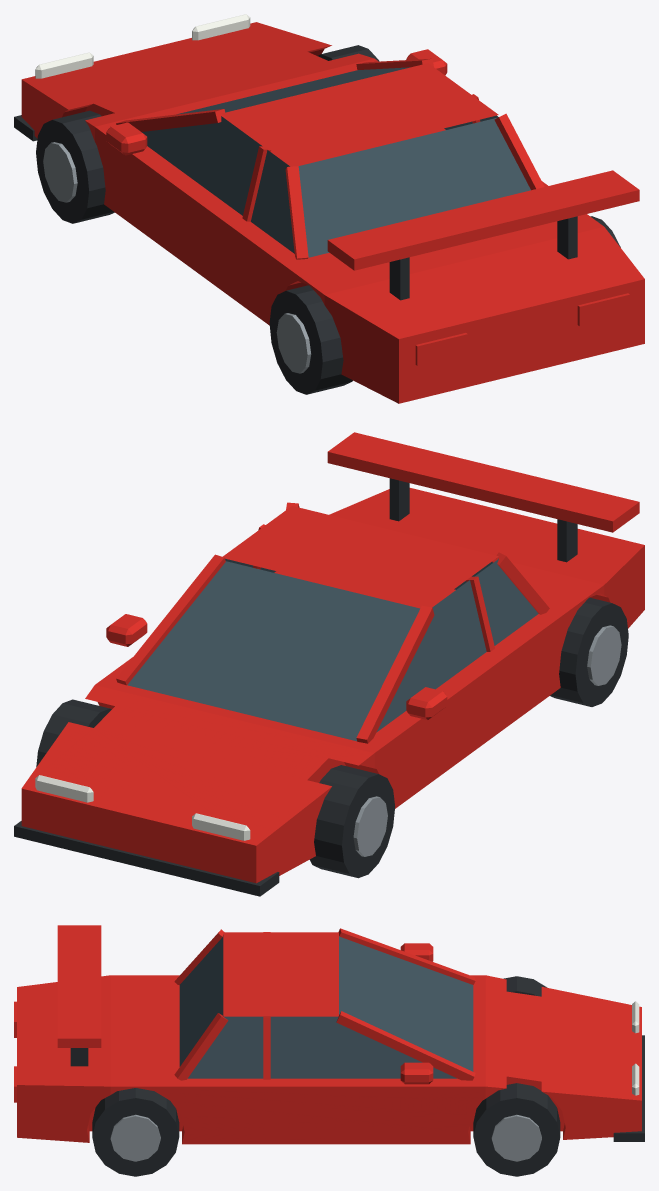
Rendered from car_speed.glb.
3 views of the same model, one above another, from view 1: azimuth 30°, elevation 25°; view 2: azimuth 150°, elevation 25°; view 3: azimuth 270°, elevation 25° (orthographic). The views are drawn at different scales.
Visible parts, largest first — view 1: Body, CabinGlass, Roof, RearWing, Wheel_Rear_L, Wheel_Front_L, Hub_Front_L, Hub_Rear_L, CabinPillar, CabinPillar.003, TailLight.001, TailLight (+8 smaller); view 2: Body, CabinGlass, Roof, RearWing, Wheel_Front_L, Wheel_Rear_L, FrontSplitter, CabinPillar.003, CabinPillar.002, Wheel_Front_R, Hub_Front_L, Hub_Rear_L (+8 smaller); view 3: Body, CabinGlass, Roof, RearWing, Wheel_Front_R, Wheel_Rear_R, CabinPillar.002, Hub_Front_R, Hub_Rear_R, CabinPillar.003, CabinPillar.001, Mirror.001 (+5 smaller).
Boxes of the visible parts, x1=… form: Body: x1=21, y1=22, x2=644, y2=403; CabinGlass: x1=141, y1=67, x2=530, y2=257; Roof: x1=221, y1=63, x2=498, y2=165; RearWing: x1=327, y1=170, x2=639, y2=270; Wheel_Rear_L: x1=269, y1=285, x2=352, y2=394; Wheel_Front_L: x1=36, y1=110, x2=114, y2=223; Hub_Front_L: x1=43, y1=142, x2=77, y2=202; Hub_Rear_L: x1=276, y1=313, x2=311, y2=373; CabinPillar: x1=285, y1=166, x2=308, y2=259; CabinPillar.003: x1=116, y1=109, x2=227, y2=131; TailLight.001: x1=577, y1=293, x2=629, y2=326; TailLight: x1=415, y1=333, x2=467, y2=365; Body: x1=21, y1=488, x2=644, y2=883; CabinGlass: x1=127, y1=558, x2=538, y2=741; Roof: x1=222, y1=506, x2=498, y2=606; RearWing: x1=327, y1=432, x2=639, y2=532; Wheel_Front_L: x1=309, y1=765, x2=395, y2=878; Wheel_Rear_L: x1=550, y1=597, x2=628, y2=706; FrontSplitter: x1=14, y1=821, x2=279, y2=896; CabinPillar.003: x1=356, y1=605, x2=434, y2=743; CabinPillar.002: x1=116, y1=554, x2=225, y2=685; Wheel_Front_R: x1=36, y1=699, x2=111, y2=766; Hub_Front_L: x1=353, y1=796, x2=387, y2=856; Hub_Rear_L: x1=587, y1=625, x2=621, y2=685; Body: x1=17, y1=975, x2=641, y2=1144; CabinGlass: x1=179, y1=935, x2=473, y2=1078; Roof: x1=223, y1=932, x2=338, y2=1014; RearWing: x1=57, y1=925, x2=101, y2=1047; Wheel_Front_R: x1=473, y1=1083, x2=560, y2=1176; Wheel_Rear_R: x1=92, y1=1088, x2=179, y2=1176; CabinPillar.002: x1=336, y1=1011, x2=475, y2=1080; Hub_Front_R: x1=491, y1=1114, x2=541, y2=1161; Hub_Rear_R: x1=110, y1=1114, x2=160, y2=1161; CabinPillar.003: x1=338, y1=928, x2=475, y2=984; CabinPillar.001: x1=174, y1=1013, x2=228, y2=1080; Mirror.001: x1=400, y1=1062, x2=433, y2=1084.
Size of the model in its own units: 2.26 by 1.17 by 4.65.
